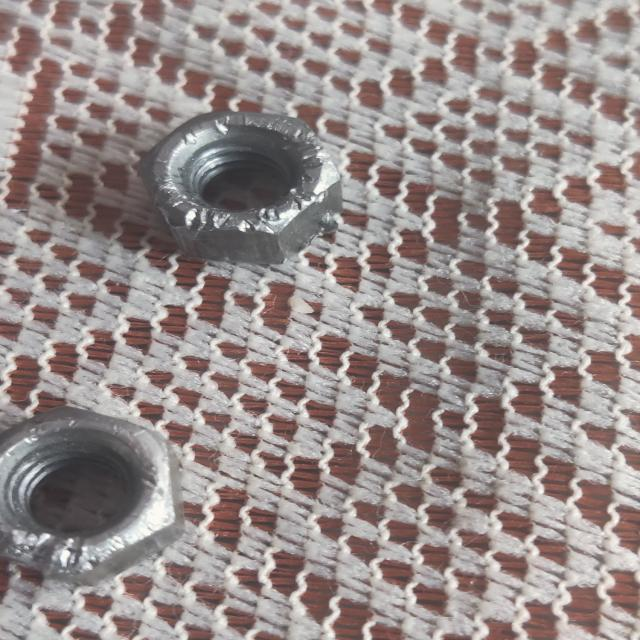infected nut: (0, 408, 183, 585), (137, 112, 343, 262)
